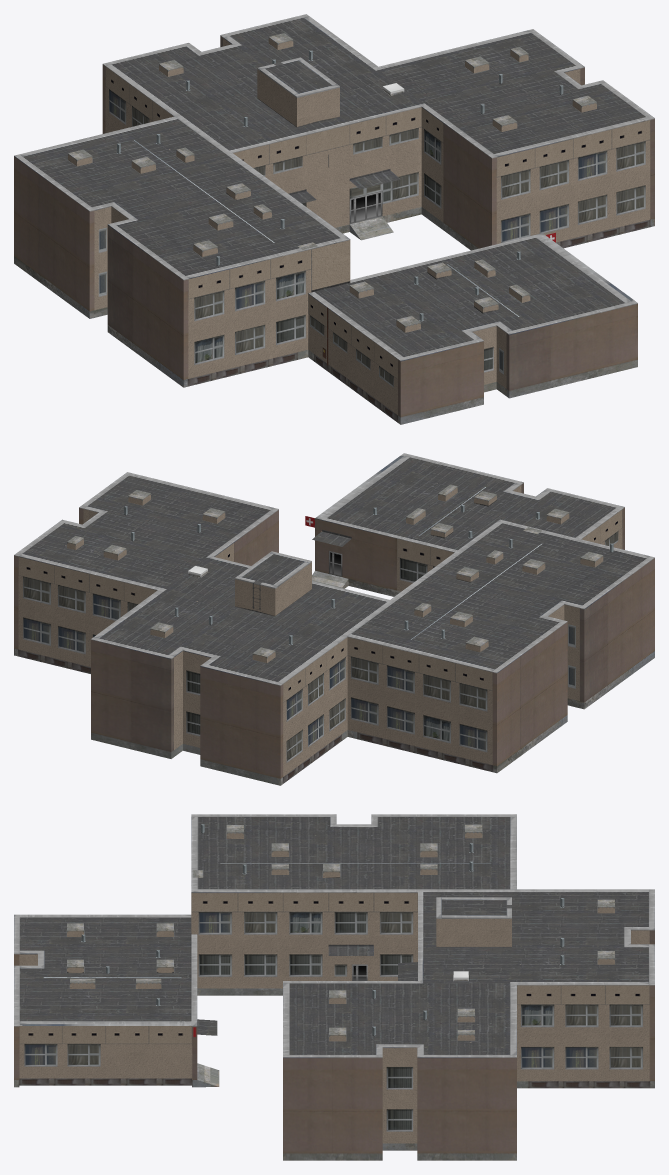
The model's file is poznan_district_clinic_lite_poland.glb.
The picture shows the model from 3 angles, top to bottom: view 1: azimuth 30°, elevation 25°; view 2: azimuth 150°, elevation 25°; view 3: azimuth 270°, elevation 25°; orthographic projection. The views are drawn at different scales.
Parts seen in each view (by area): view 1: Object_2; view 2: Object_2; view 3: Object_2.
Part boxes in pixels (bbox=[...]): Object_2: bbox=[14, 14, 654, 424]; Object_2: bbox=[14, 453, 654, 785]; Object_2: bbox=[14, 814, 654, 1160].
Bounding box in the file's own units: 43.3 × 11.05 × 48.25.
1 material, 1 textured.
